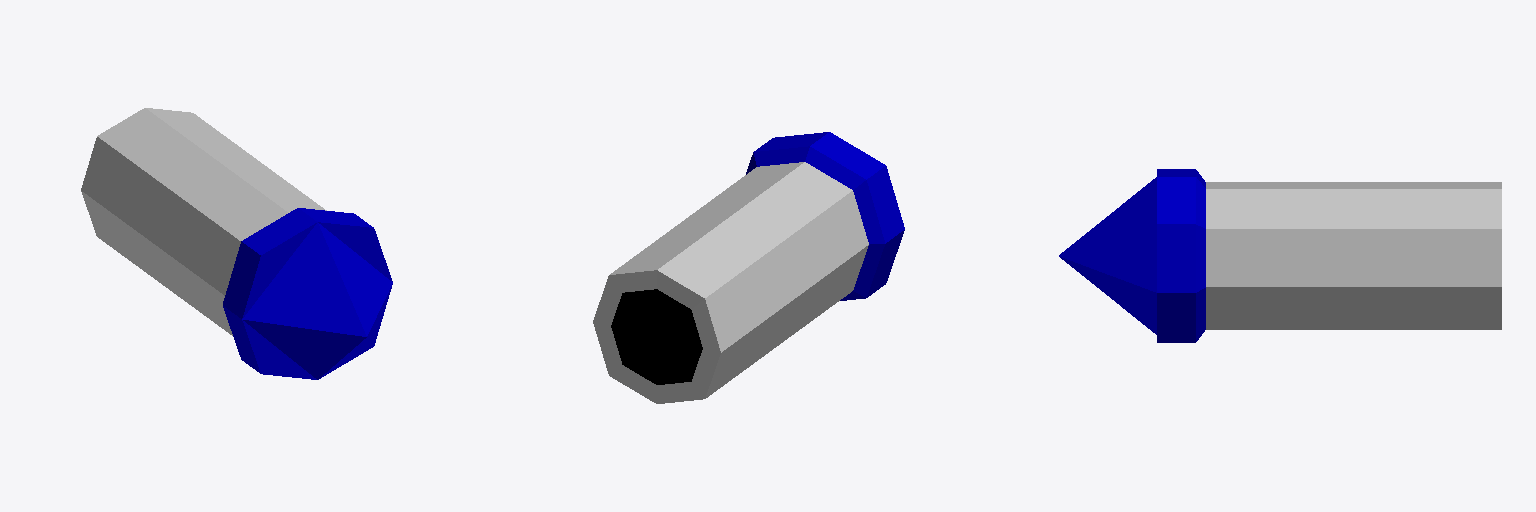
Rendered from basicGun.obj.
The picture shows the model from 3 angles: view 1: azimuth 30°, elevation 25°; view 2: azimuth 150°, elevation 25°; view 3: azimuth 270°, elevation 25°; orthographic projection.
Parts seen in each view (by area): view 1: basicGun; view 2: basicGun; view 3: basicGun.
Boxes of the visible parts, box(x1,y1,x2,y2) form: basicGun: box(81, 108, 392, 379); basicGun: box(593, 132, 904, 403); basicGun: box(1059, 169, 1501, 342).
Bounding box in the file's own units: 0.4419 × 0.4419 × 1.12.